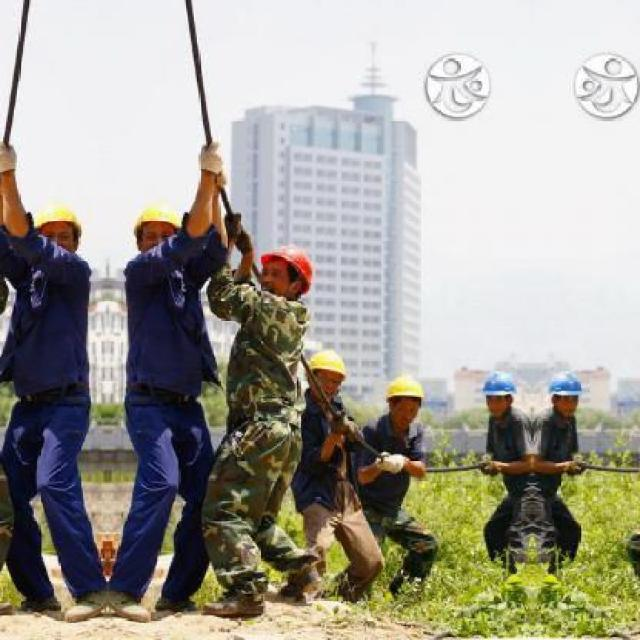helmet: (252, 237, 330, 295), (129, 191, 186, 243), (297, 331, 351, 383), (378, 371, 428, 414), (475, 365, 520, 409)
